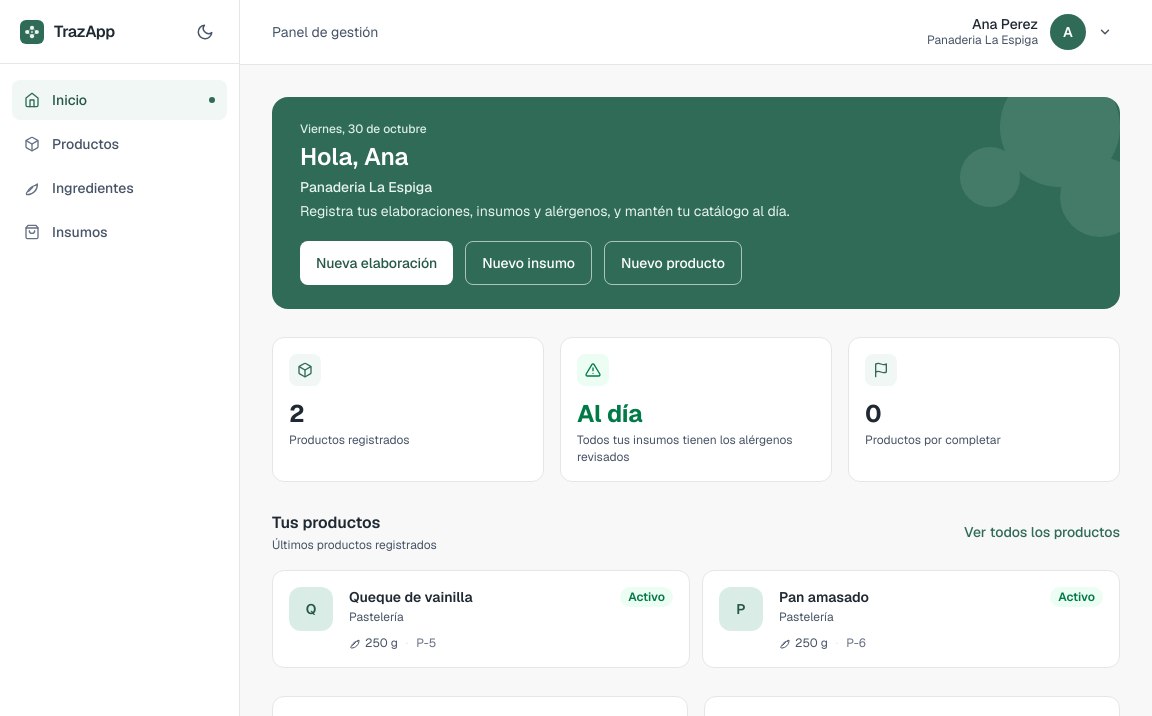
it: Escenario B (HT06-08): segunda elaboración con los mismos insumos y lotes › con los mismos insumos y lotes toma 6 interacciones desde el Dashboard hasta el detalle de la finalizada (meta CA11: 7 o menos)
This screenshot has width=1152, height=716.
expect the heading "Hola, Ana" is shown: met, box top-left (300, 141), bottom-right (408, 172)
Click the button "Nueva elaboración" at (377, 263), box top-left (300, 241), bottom-right (453, 285)
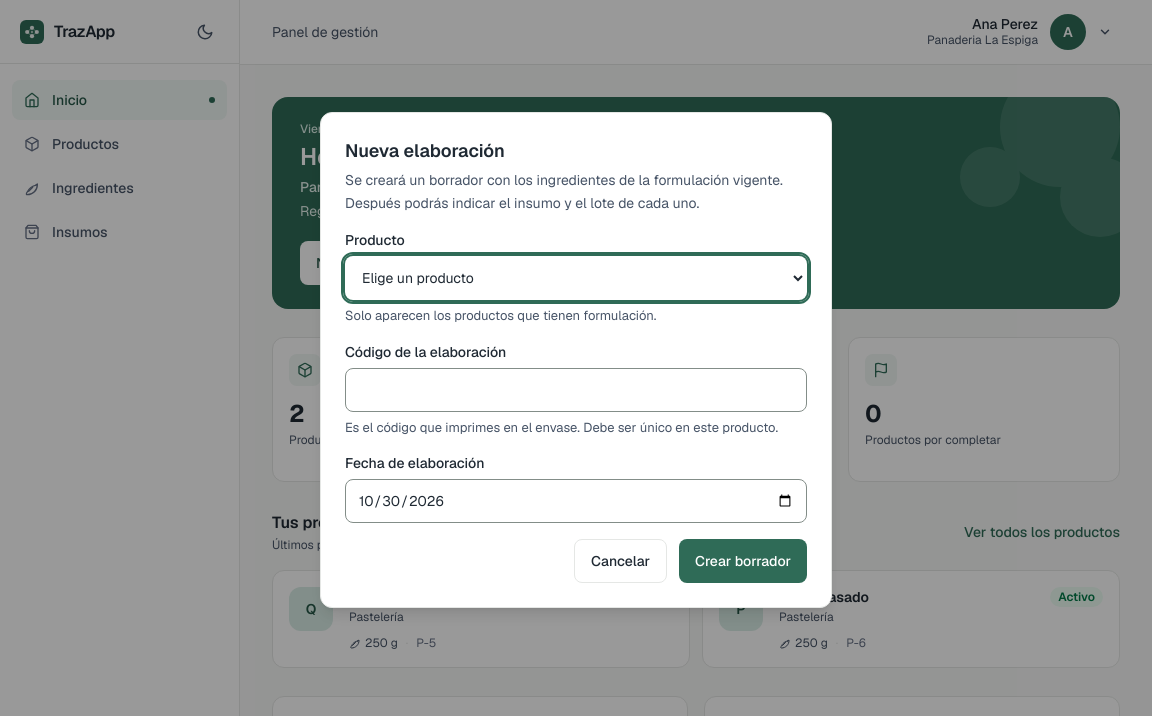
Select "Queque de vainilla" in the dropdown labelled "Producto" at (576, 278), box top-left (345, 256), bottom-right (807, 300)
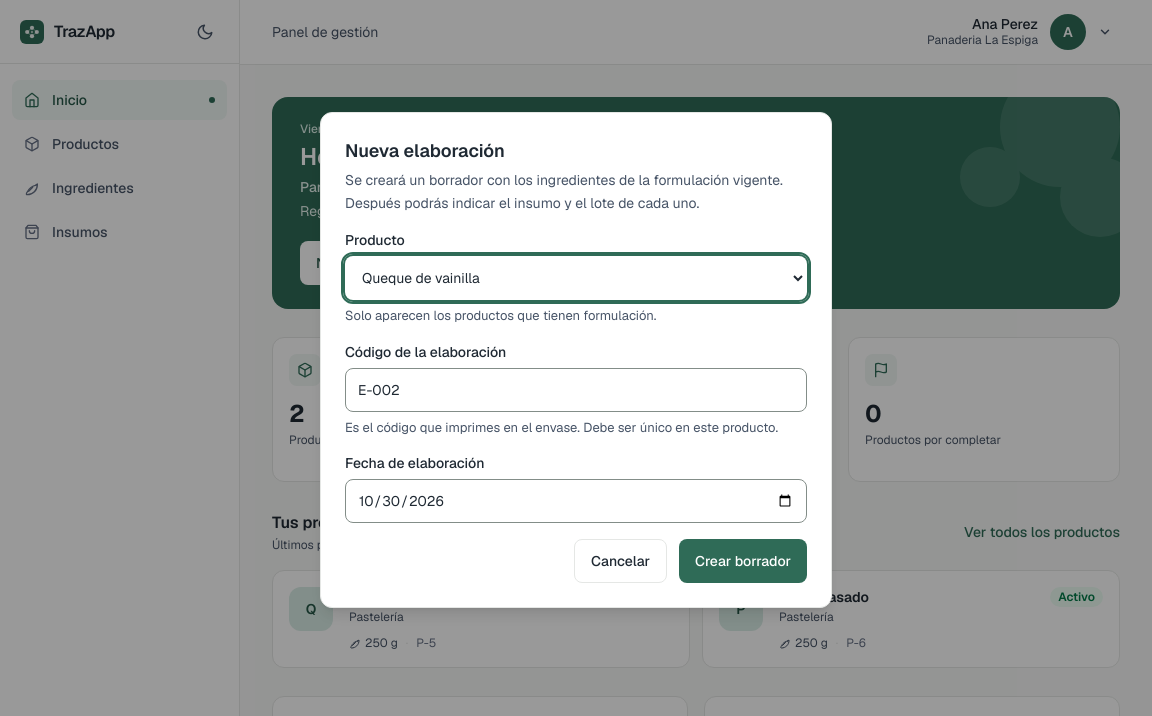
expect the field labelled "Código de la elaboración" holds "E-002": met, box top-left (345, 368), bottom-right (807, 412)
Click the button "Crear borrador" at (743, 561), box top-left (679, 539), bottom-right (807, 583)
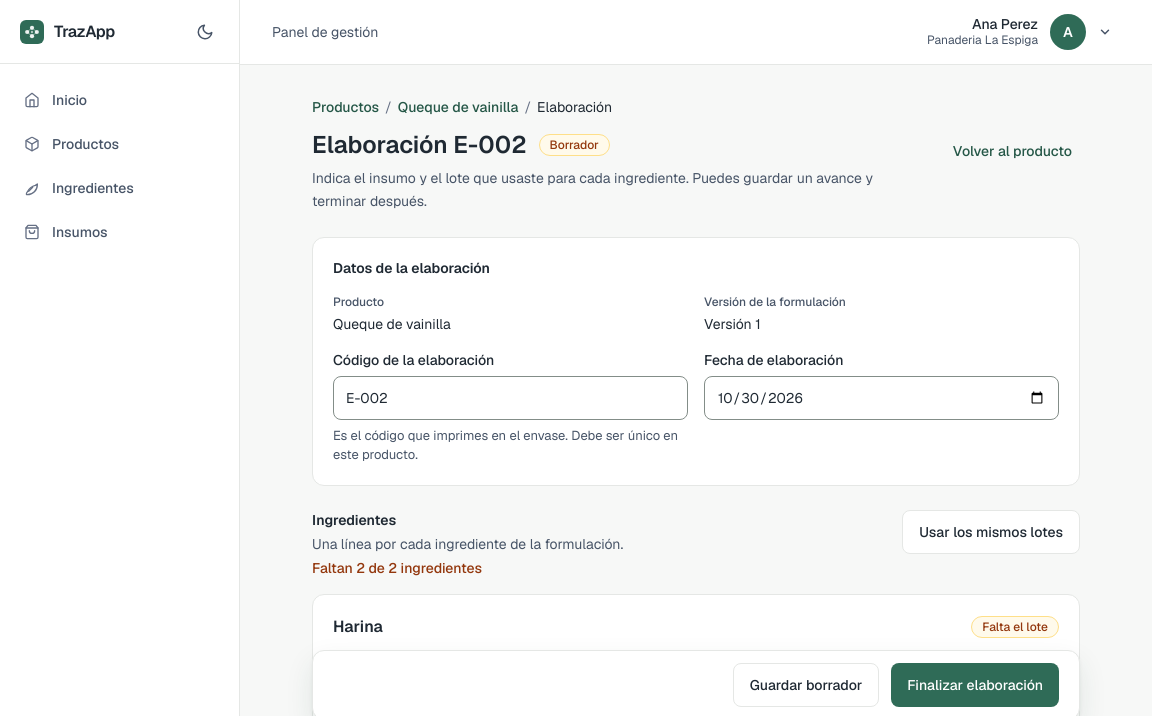
expect the heading "Elaboración E-002" is shown: met, box top-left (312, 129), bottom-right (527, 161)
Click the button "Usar los mismos lotes" at (991, 532), box top-left (902, 510), bottom-right (1080, 554)
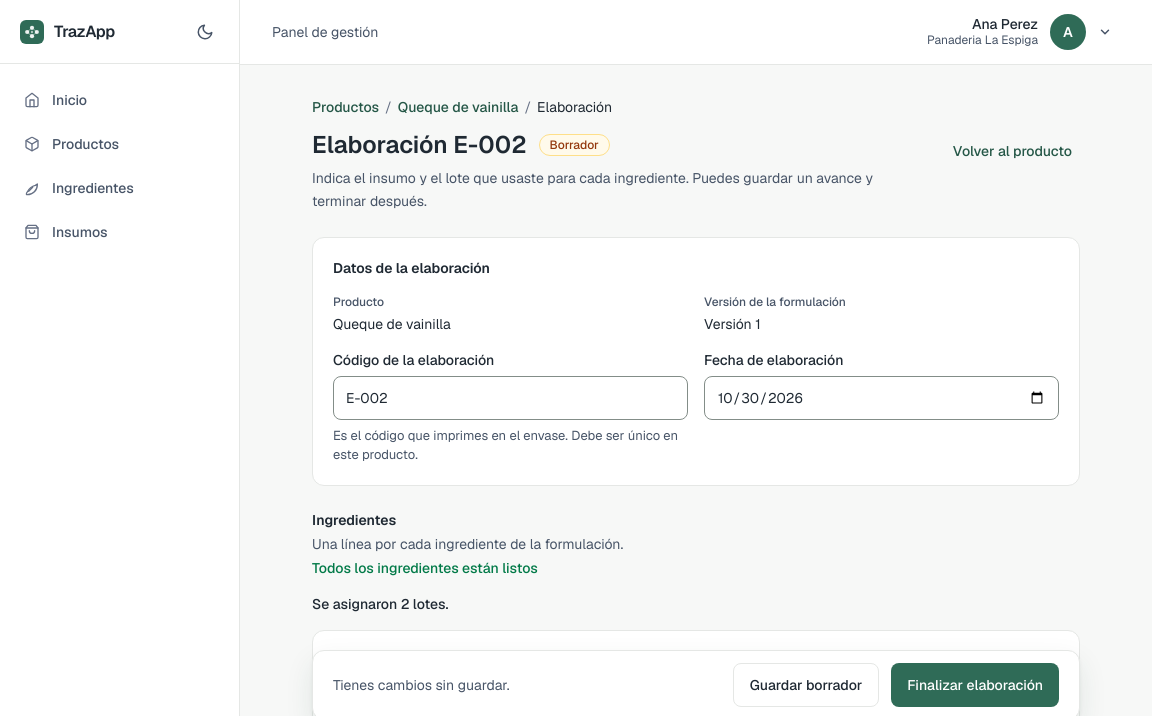
Click the button "Finalizar elaboración" at (975, 685), box top-left (891, 663), bottom-right (1059, 707)
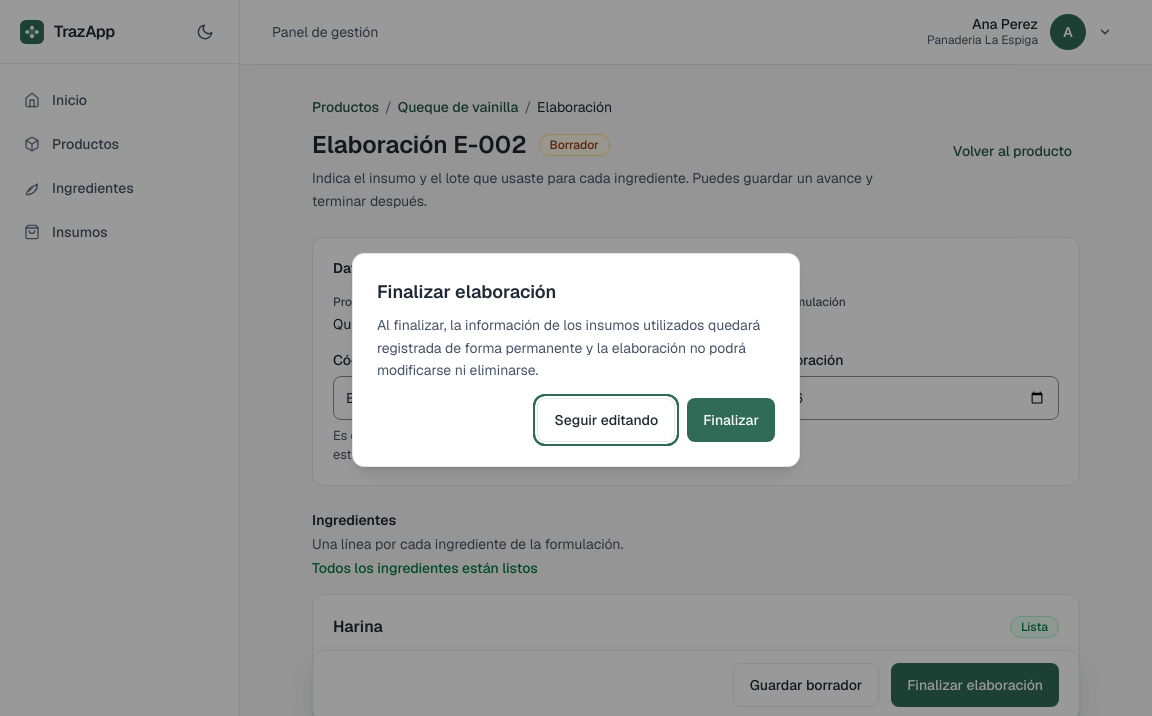
Click the button "Finalizar" at (731, 420), box top-left (687, 398), bottom-right (775, 442)
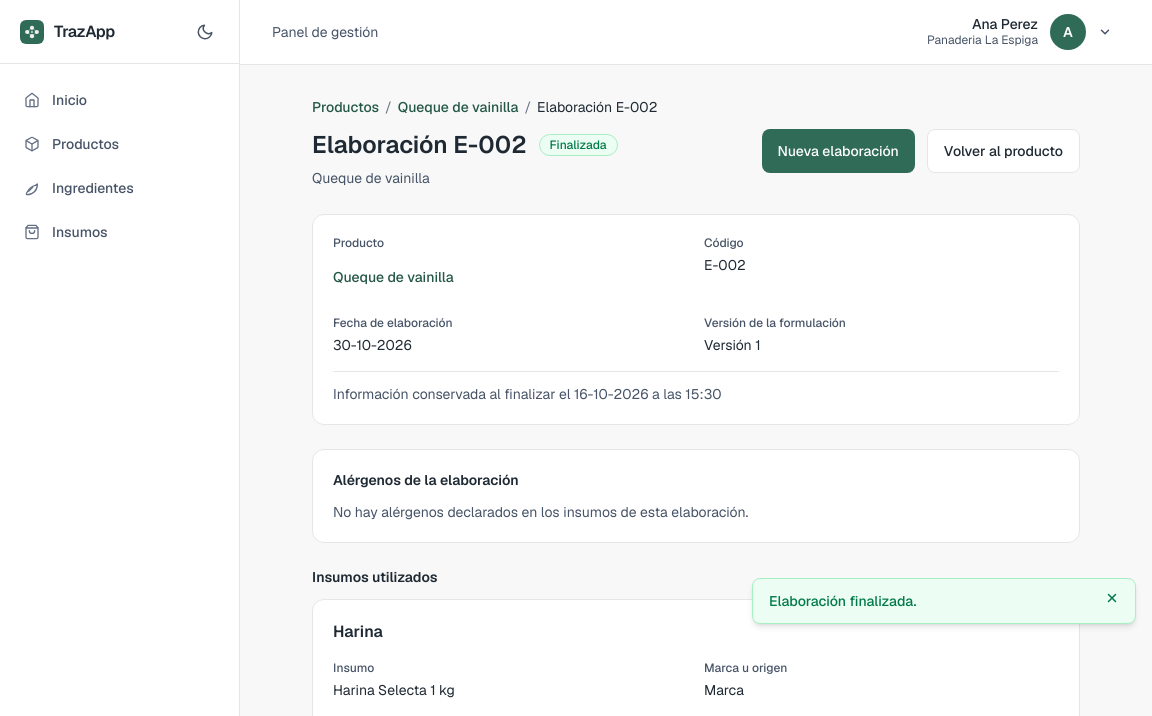
expect the heading "Elaboración E-002" is shown: met, box top-left (312, 129), bottom-right (527, 161)
expect the text "Finalizada" is shown: met, box top-left (539, 134), bottom-right (618, 156)
expect the button "Finalizar elaboración" is gone: met
